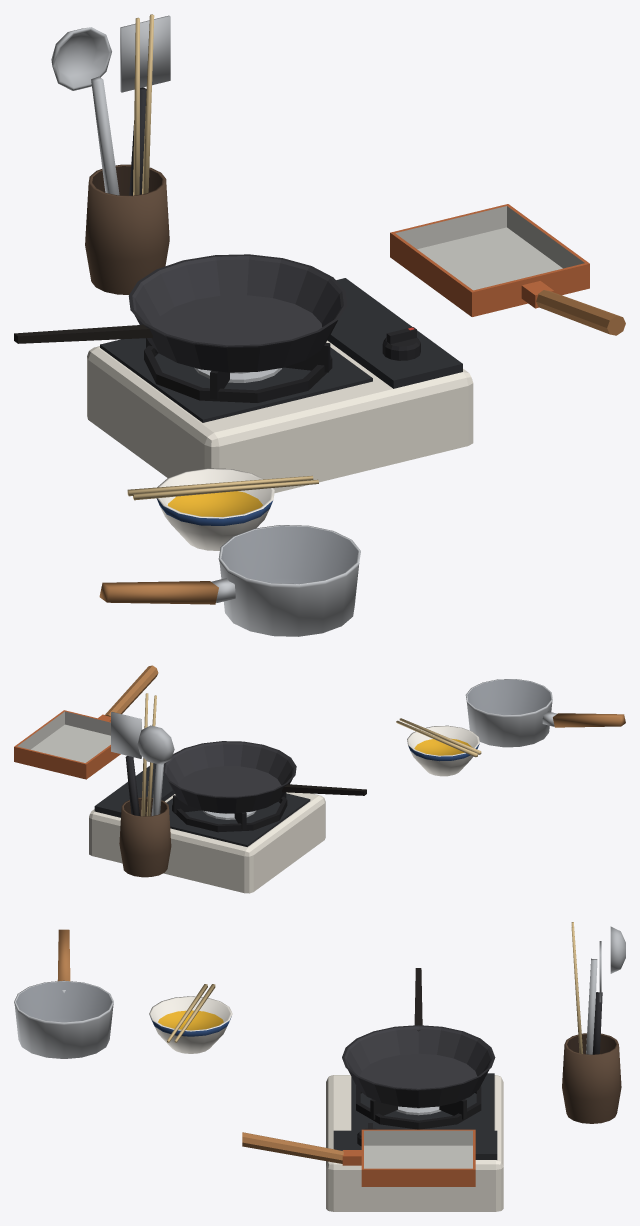
The model's file is gasstove.glb.
3 views of the same model, one above another, from view 1: azimuth 30°, elevation 25°; view 2: azimuth 150°, elevation 25°; view 3: azimuth 270°, elevation 25° (orthographic). The views are drawn at different scales.
Visible parts, largest first — view 1: GasStove, StoveTools, FryPan, SoupPot, EggPan, StoveKnob0; view 2: GasStove, StoveTools, FryPan, SoupPot, EggPan; view 3: GasStove, StoveTools, FryPan, EggPan, SoupPot.
Boxes of the visible parts, x1,y1,x2,y2 form: GasStove: [87, 278, 473, 492]; StoveTools: [51, 14, 318, 550]; FryPan: [14, 254, 347, 372]; SoupPot: [99, 525, 360, 636]; EggPan: [390, 204, 625, 335]; StoveKnob0: [382, 327, 420, 360]; GasStove: [89, 763, 325, 893]; StoveTools: [111, 693, 481, 877]; FryPan: [163, 741, 366, 813]; SoupPot: [465, 679, 625, 747]; EggPan: [14, 665, 158, 779]; GasStove: [326, 1073, 503, 1211]; StoveTools: [149, 922, 625, 1123]; FryPan: [342, 968, 495, 1107]; EggPan: [242, 1129, 475, 1186]; SoupPot: [14, 929, 113, 1058].
Size of the model in its own units: 0.8889 by 0.4072 by 0.965.
